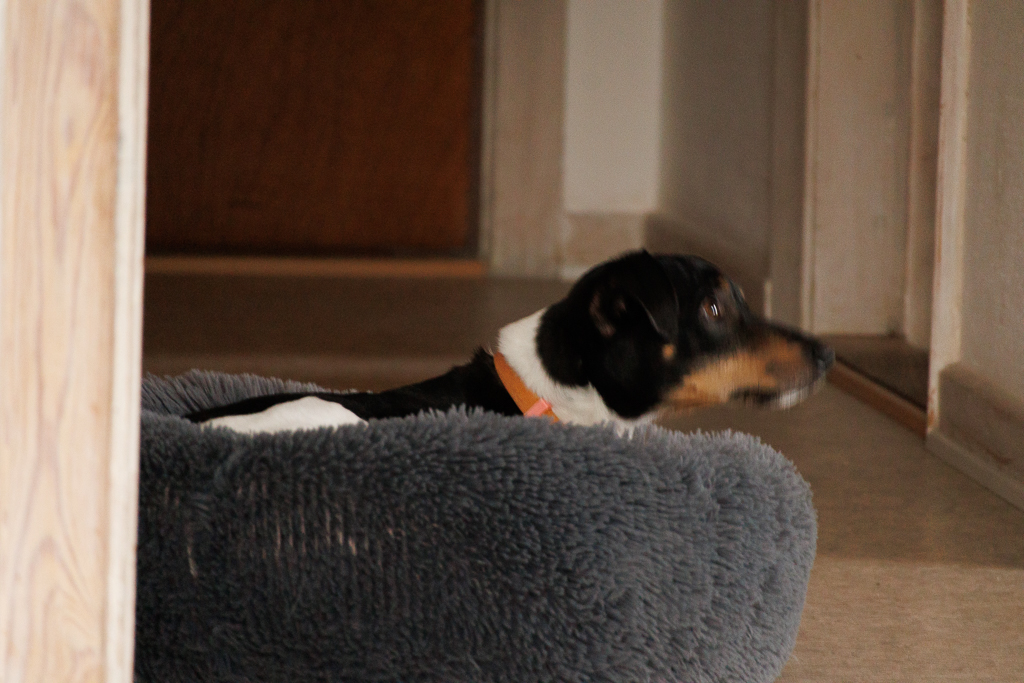Dog: (166, 232, 844, 452)
